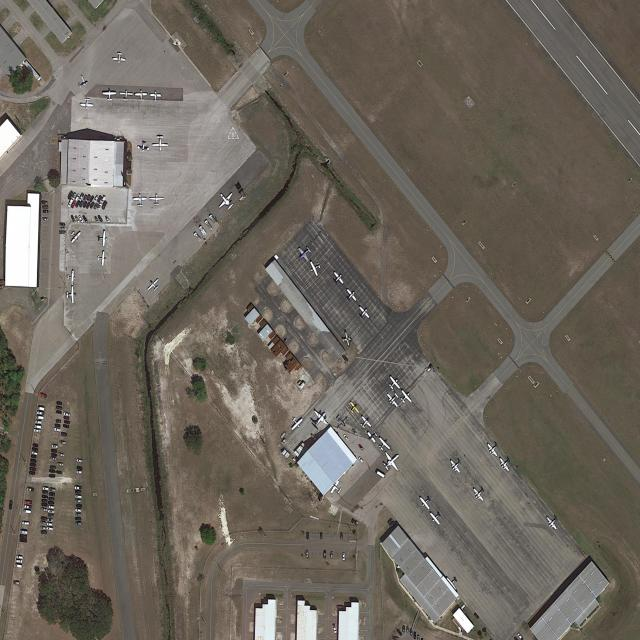large-vehicle: (24, 61, 41, 81), (209, 214, 218, 225), (204, 220, 213, 231), (199, 226, 207, 237), (376, 470, 385, 479), (16, 559, 23, 564), (15, 564, 22, 569), (10, 500, 13, 509)
plane: (379, 445, 405, 477), (214, 185, 239, 216), (307, 404, 332, 434), (295, 242, 314, 265), (470, 483, 489, 505), (544, 511, 562, 532), (448, 454, 465, 476), (333, 411, 350, 432), (385, 389, 402, 410), (485, 438, 502, 459), (75, 74, 91, 96), (375, 434, 392, 454), (386, 374, 403, 394), (288, 413, 304, 434), (498, 453, 514, 474), (330, 268, 346, 288), (398, 387, 414, 407), (308, 258, 323, 279), (358, 413, 374, 432), (146, 276, 162, 295), (343, 286, 359, 305), (428, 508, 444, 527), (418, 493, 434, 512), (329, 478, 344, 498), (356, 303, 371, 322), (152, 136, 169, 152), (365, 428, 380, 445), (347, 399, 361, 417), (68, 227, 82, 245), (341, 330, 352, 349), (66, 286, 76, 305), (133, 193, 147, 206), (80, 97, 94, 110), (112, 51, 126, 64), (102, 89, 117, 101), (137, 141, 150, 154), (149, 195, 164, 206), (98, 231, 108, 247), (120, 89, 133, 101), (97, 251, 107, 266), (67, 270, 76, 286), (150, 90, 162, 102), (135, 90, 148, 101)
small-vehicle: (193, 232, 202, 241), (104, 215, 111, 224), (102, 200, 108, 210), (39, 392, 47, 399), (517, 632, 524, 640), (70, 214, 76, 223), (74, 215, 80, 224), (82, 214, 88, 223), (67, 190, 73, 199), (332, 625, 338, 634), (79, 192, 84, 202), (342, 355, 349, 362), (310, 433, 317, 440), (426, 366, 433, 373), (75, 200, 81, 208), (101, 195, 107, 203), (78, 215, 84, 223), (352, 428, 358, 436), (474, 612, 480, 620), (71, 200, 76, 209), (68, 199, 73, 208), (23, 509, 32, 514), (24, 500, 33, 505), (94, 216, 100, 223), (34, 428, 41, 434), (71, 193, 77, 200), (343, 434, 349, 441), (358, 443, 364, 450), (397, 629, 403, 636), (79, 200, 84, 208), (83, 200, 88, 208), (97, 202, 102, 210), (75, 193, 80, 201), (63, 412, 71, 417), (36, 415, 44, 420), (37, 411, 45, 416), (97, 195, 102, 203), (59, 230, 67, 235), (59, 440, 67, 445), (22, 521, 30, 526), (56, 462, 64, 467), (75, 494, 83, 499), (358, 457, 364, 463), (74, 486, 83, 490), (86, 202, 91, 209), (90, 202, 95, 209), (94, 195, 99, 202), (98, 215, 103, 222), (89, 195, 94, 202), (56, 401, 63, 406), (56, 410, 63, 415), (38, 406, 45, 411), (83, 194, 88, 201), (41, 200, 48, 205), (51, 444, 58, 449), (281, 438, 286, 445), (390, 521, 395, 528), (27, 487, 34, 492), (75, 508, 82, 513), (48, 509, 55, 514), (49, 487, 56, 492), (54, 428, 62, 432), (16, 555, 24, 559), (20, 538, 28, 542), (392, 636, 400, 640), (342, 553, 346, 561), (20, 530, 28, 534), (24, 505, 32, 509), (75, 499, 83, 503), (86, 194, 91, 200), (63, 424, 69, 429), (56, 406, 62, 411), (36, 420, 42, 425), (388, 518, 393, 524), (43, 486, 49, 491), (49, 492, 55, 497), (94, 203, 98, 210), (35, 425, 42, 429), (60, 227, 67, 231), (47, 527, 54, 531), (40, 526, 47, 530), (49, 474, 56, 478), (58, 453, 65, 457), (50, 457, 57, 461), (48, 514, 55, 518), (75, 490, 82, 494), (41, 508, 48, 512), (324, 550, 327, 559), (59, 222, 65, 226), (64, 420, 70, 424), (64, 416, 70, 420), (55, 423, 61, 427), (43, 210, 49, 214), (47, 518, 53, 522), (47, 522, 53, 526), (40, 521, 46, 525), (41, 517, 47, 521), (306, 532, 309, 540), (340, 533, 344, 539), (331, 551, 334, 559), (51, 449, 57, 453), (56, 470, 62, 474), (29, 471, 35, 475), (30, 467, 36, 471), (30, 463, 36, 467), (31, 459, 37, 463), (32, 451, 38, 455), (32, 447, 38, 451), (33, 443, 39, 447), (77, 466, 83, 470), (77, 459, 83, 463), (51, 453, 57, 457), (43, 491, 49, 495), (48, 501, 54, 505), (49, 497, 55, 501), (42, 495, 48, 499), (61, 433, 68, 436), (40, 531, 47, 534), (20, 535, 27, 538), (306, 550, 309, 557), (320, 532, 323, 539), (49, 470, 56, 473), (41, 499, 48, 502), (43, 217, 48, 221), (77, 470, 82, 474), (43, 206, 49, 209), (14, 581, 20, 584), (406, 627, 409, 633), (337, 605, 343, 608), (410, 629, 413, 635), (50, 466, 56, 469), (76, 522, 82, 525), (75, 517, 81, 520), (76, 505, 82, 508), (49, 506, 55, 509), (41, 503, 47, 506), (32, 455, 36, 459), (56, 420, 61, 423), (76, 513, 81, 516), (414, 631, 416, 638), (403, 626, 405, 632)
